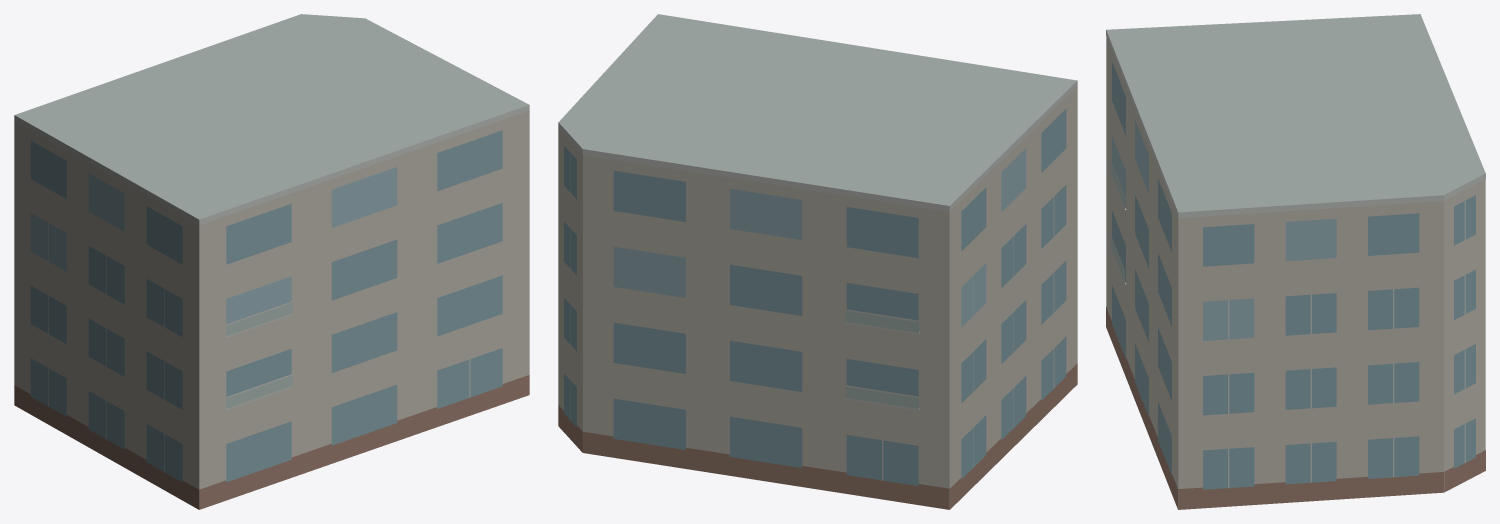
File: survey-upis-32752564.glb
3 renders of one model, left to right at view 1: azimuth 30°, elevation 25°; view 2: azimuth 150°, elevation 25°; view 3: azimuth 270°, elevation 25°, orthographic. The views are drawn at different scales.
Visible parts, largest first — view 1: survey-upis-32752564.tmp; view 2: survey-upis-32752564.tmp; view 3: survey-upis-32752564.tmp.
Boxes of the visible parts, box(x1,y1,x2,y2) form: survey-upis-32752564.tmp: box(14, 14, 529, 509); survey-upis-32752564.tmp: box(558, 14, 1077, 509); survey-upis-32752564.tmp: box(1106, 14, 1485, 509).
Size of the model in its own units: 17.76 by 12.4 by 14.35.
